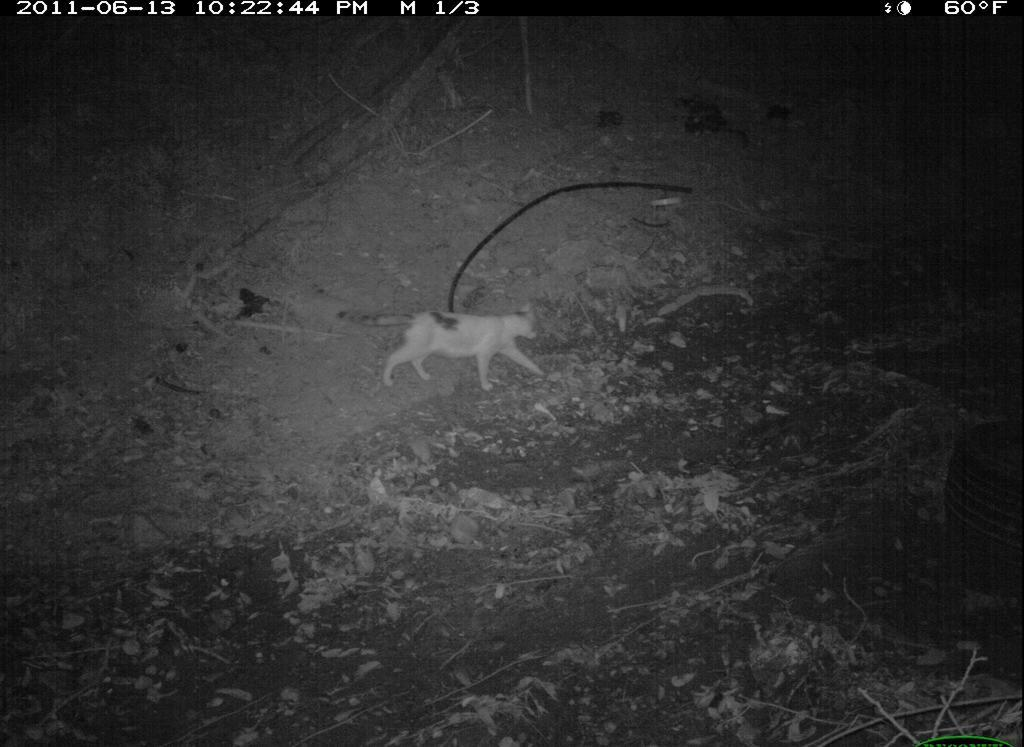cat: (372, 301, 553, 396)
